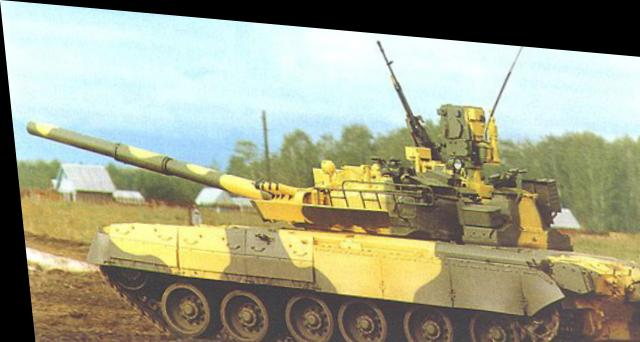tank: (76, 70, 640, 340)
